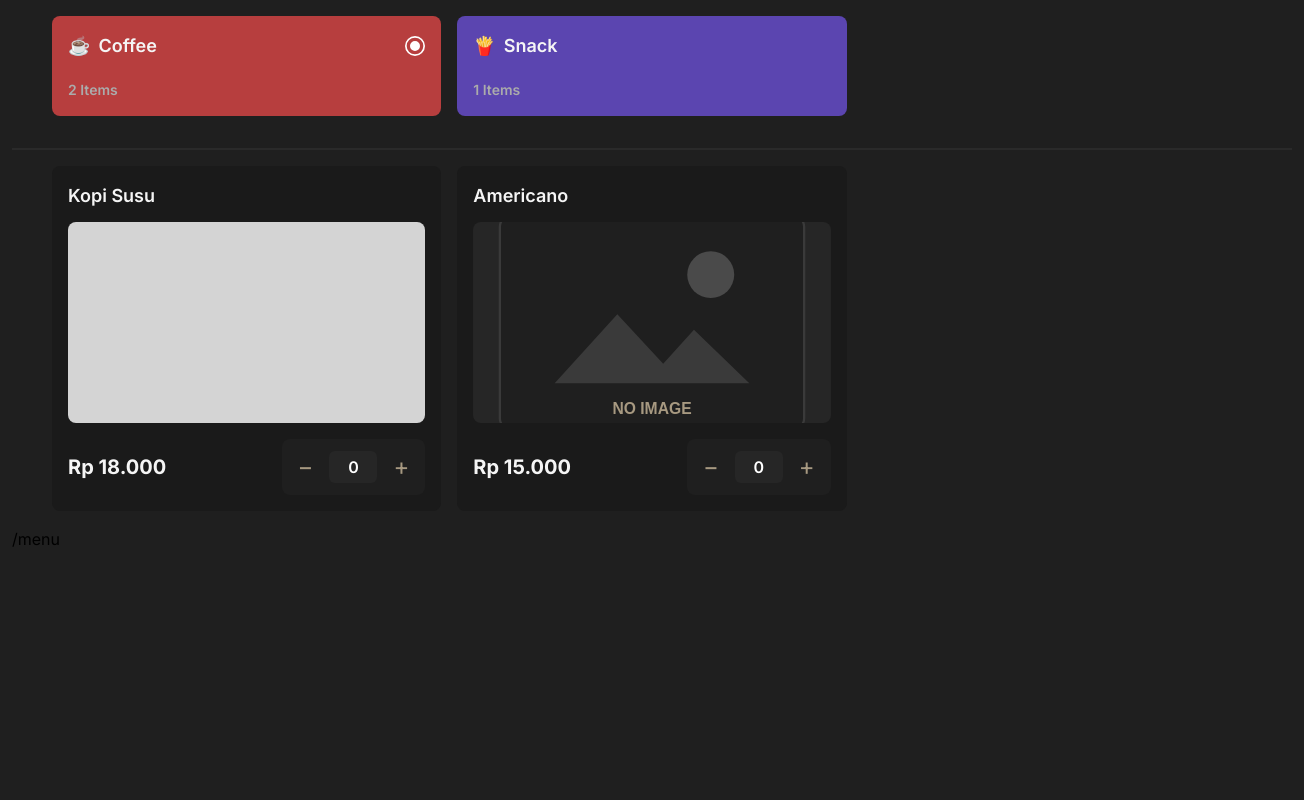
POS menu › switches category from the category cards
The width and height of the screenshot is (1304, 800).
Expected: the heading "Kopi Susu" is shown, [68, 185, 155, 206]
Click the text "Snack". click: (531, 46)
box: [504, 32, 558, 60]
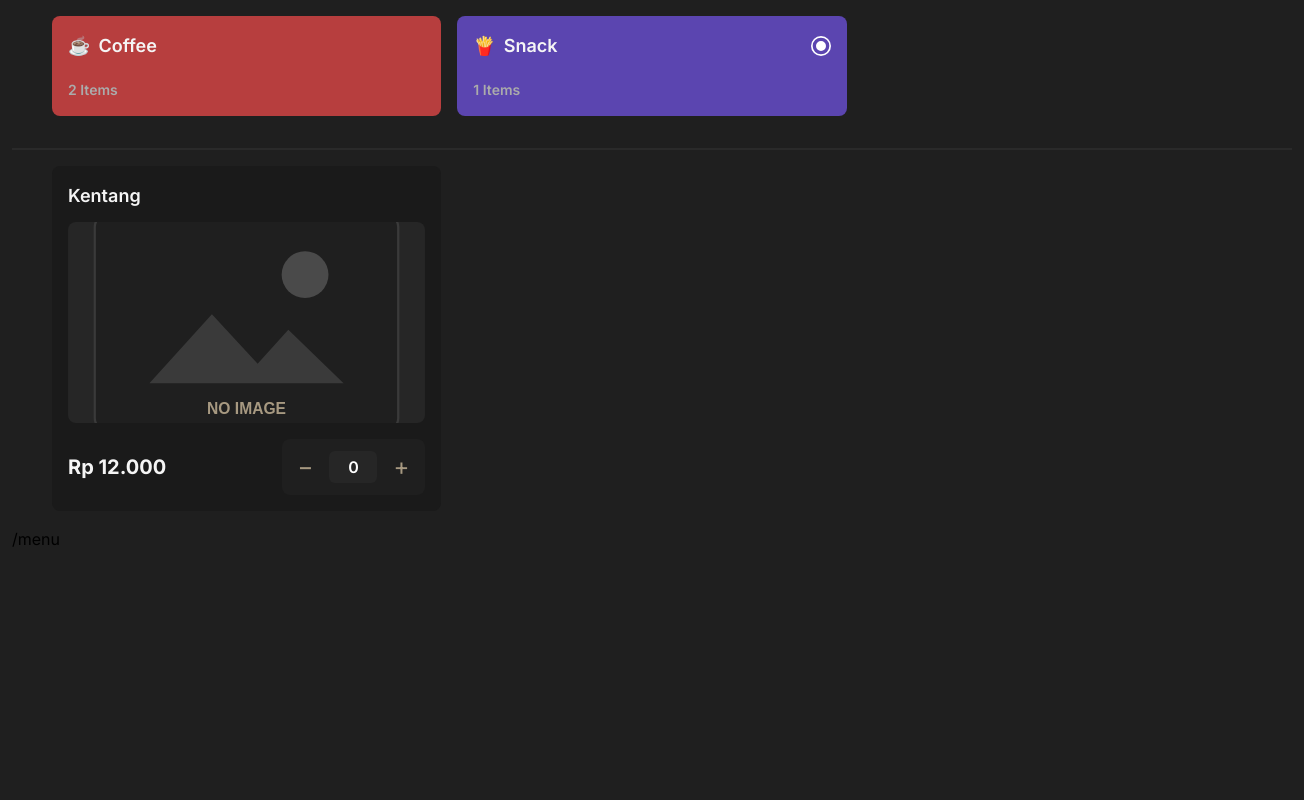
Result: the heading "Kentang" is shown at [68, 185, 141, 206]
Result: the heading "Americano" is gone
